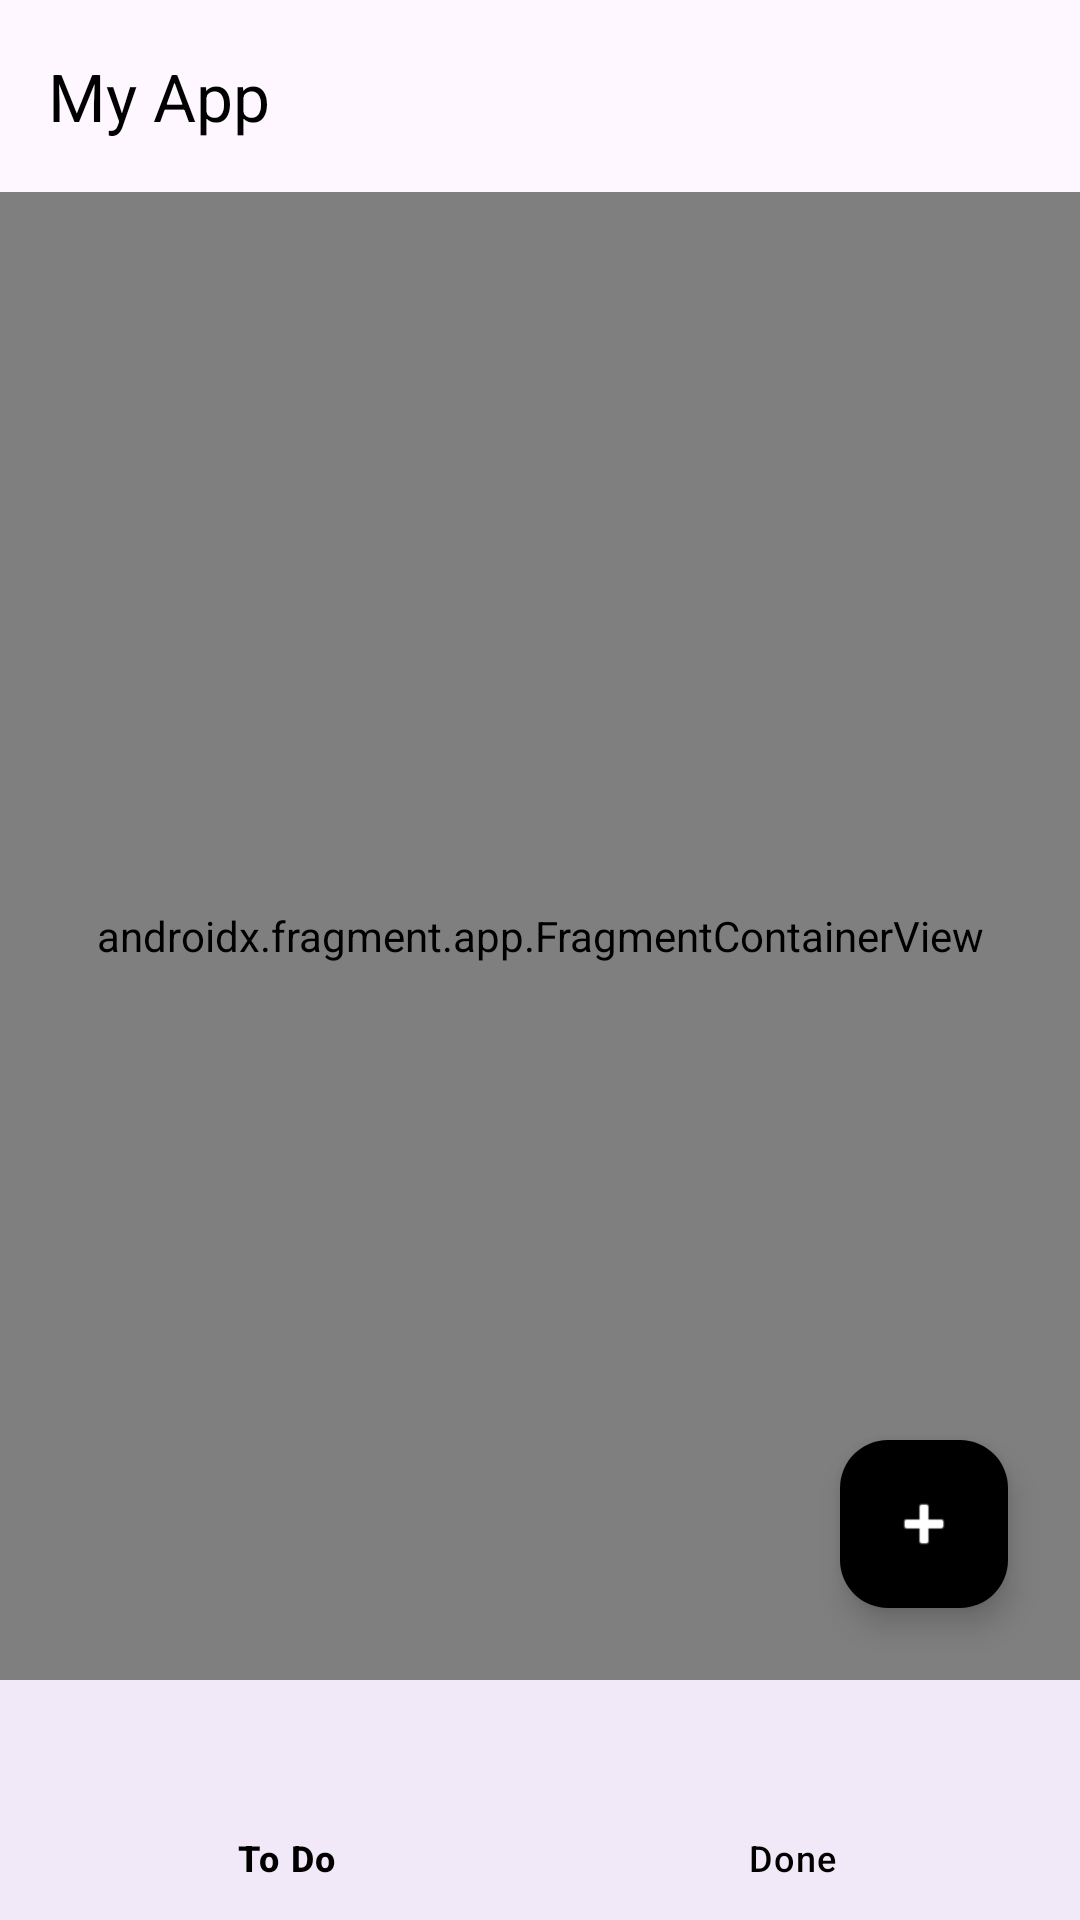

Icon bounding boxes for this 1080×1920 phone screenshot, format (x1, y1, x2, y2):
Add Task: (840, 1440, 1008, 1608)
